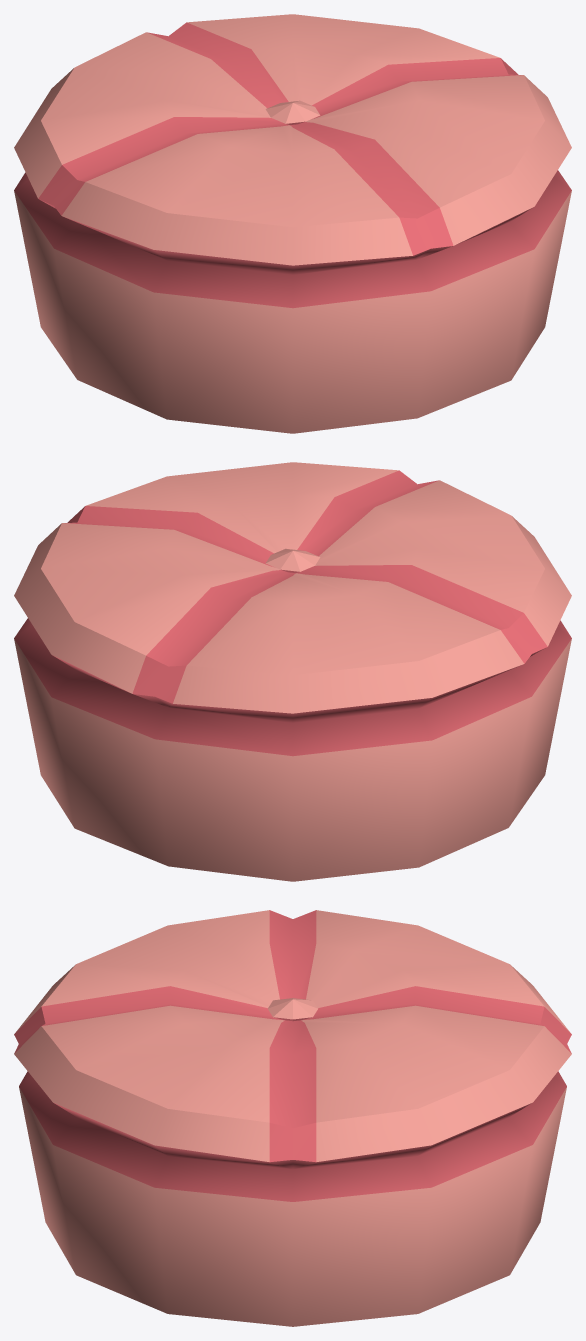
File: Ottoman.FBX
3 views of the same model, one above another, from view 1: azimuth 30°, elevation 25°; view 2: azimuth 150°, elevation 25°; view 3: azimuth 270°, elevation 25° (orthographic).
Parts seen in each view (by area): view 1: Ottoman; view 2: Ottoman; view 3: Ottoman.
Part boxes in pixels (x1,y1,x2,y2): Ottoman: (14,14,571,433); Ottoman: (14,462,571,881); Ottoman: (14,910,571,1326).
Size of the model in its own units: 30.75 by 13.77 by 30.75.
